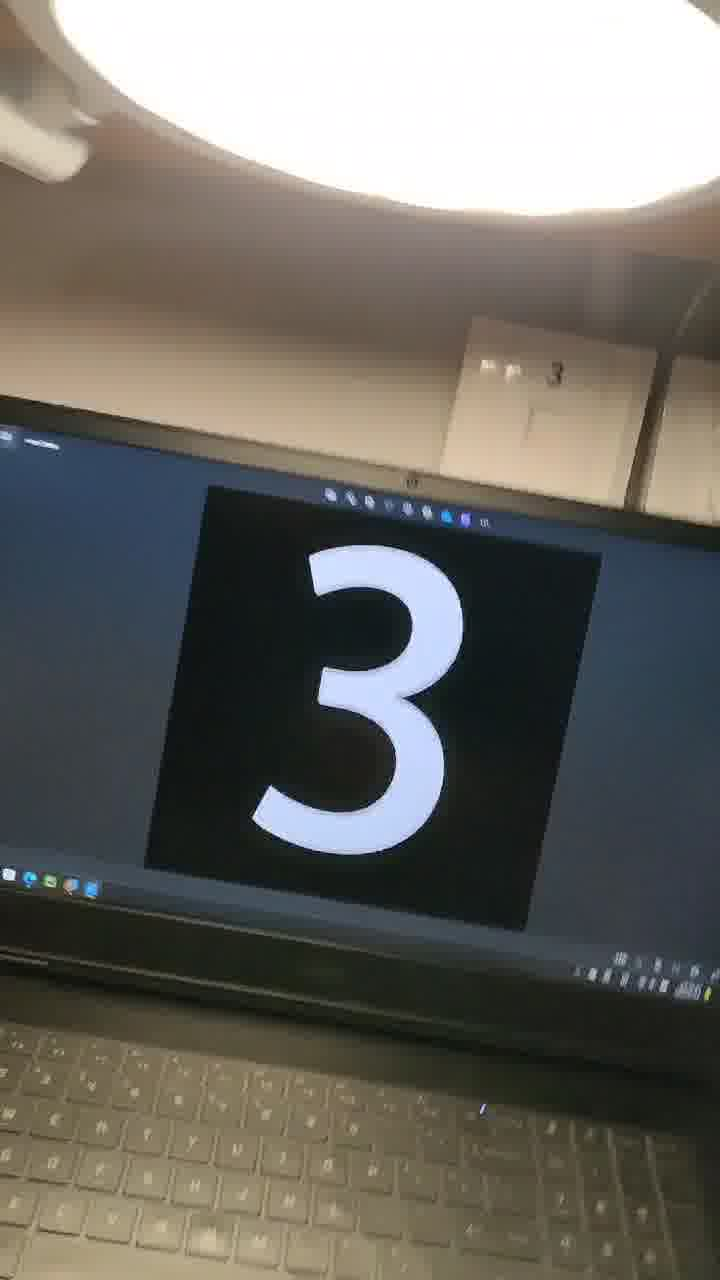three: (247, 463, 492, 907)
